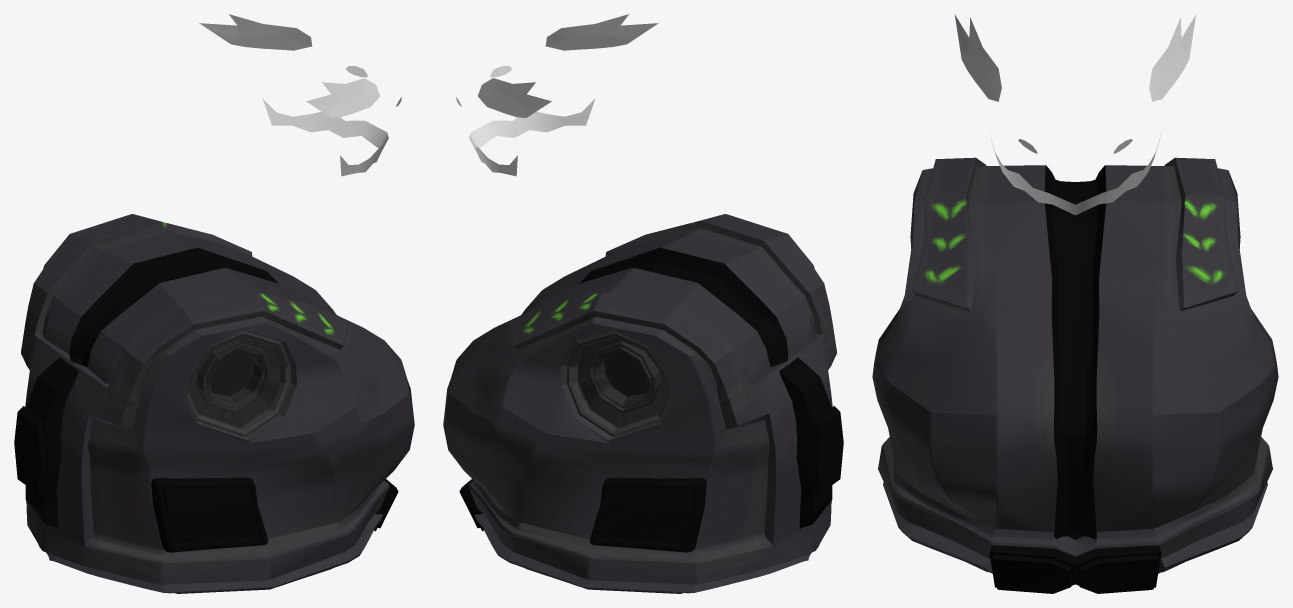
Rendered from AS_DiagF_MOuthDD.fbx.
3 views of the same model, side by side, from view 1: azimuth 30°, elevation 25°; view 2: azimuth 150°, elevation 25°; view 3: azimuth 270°, elevation 25° (orthographic). The views are drawn at different scales.
Parts seen in each view (by area): view 1: Chest_armor, Face; view 2: Chest_armor, Face; view 3: Chest_armor, Face.
Part boxes in pixels (x1,y1,x2,y2): Chest_armor: (14, 214, 414, 593); Face: (199, 14, 401, 176); Chest_armor: (443, 214, 843, 593); Face: (456, 14, 658, 176); Chest_armor: (872, 157, 1278, 593); Face: (955, 15, 1195, 215).
Size of the model in its own units: 30.93 by 26.77 by 38.9.
